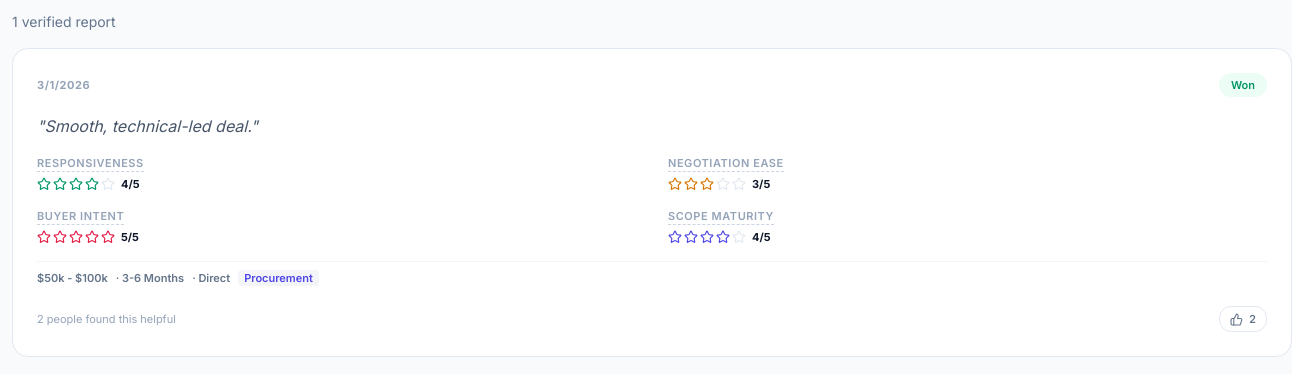
Test case: EvidenceList › counts up optimistically and settles on the server total
Click the button named "mark this review helpful" at (1243, 319), box [1219,306,1267,332]
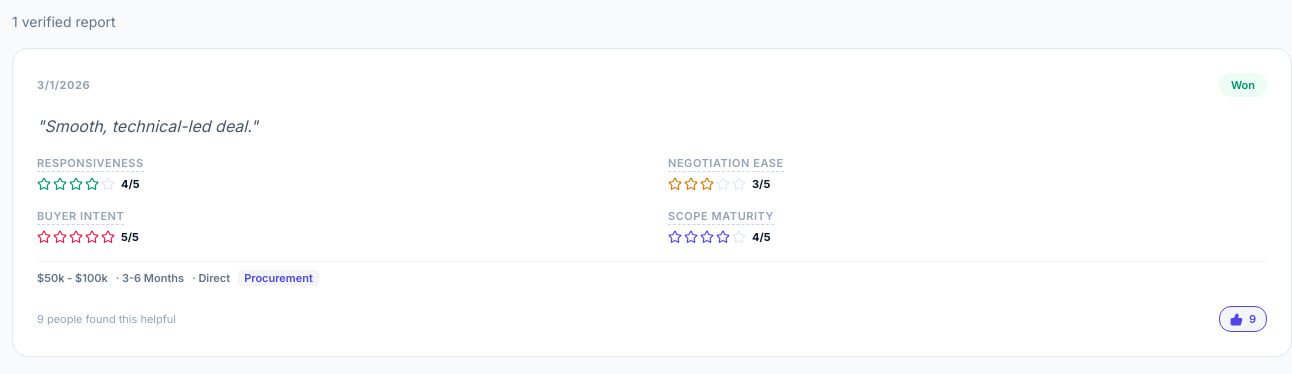
expect the text "9 people found this helpful" is shown: met, box [37,311,176,327]
